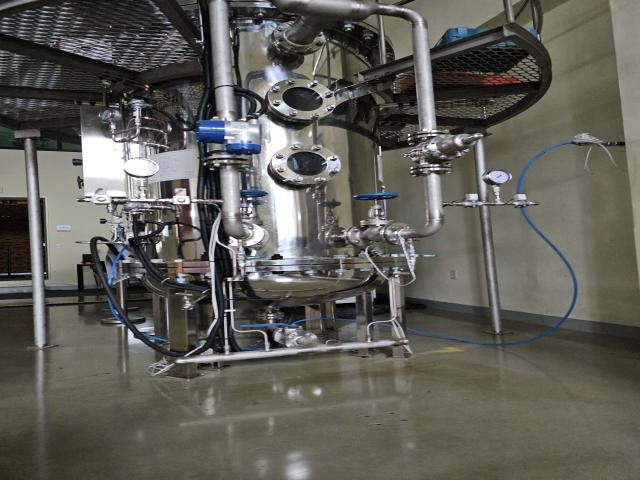Flange: (269, 143, 343, 187), (268, 78, 338, 122)
Flush Ring: (270, 20, 327, 55), (218, 221, 264, 247), (378, 222, 416, 246), (404, 128, 452, 146), (202, 155, 253, 171), (409, 161, 454, 178), (285, 330, 318, 352), (347, 225, 378, 247)
GasRegulator: (98, 99, 173, 150)
Nuts: (90, 194, 114, 205), (170, 195, 193, 206), (510, 200, 534, 208), (462, 200, 484, 208)
Piston Valve: (354, 192, 398, 226), (239, 190, 268, 226)
Pressure Gage: (124, 158, 159, 199), (481, 168, 513, 203)
